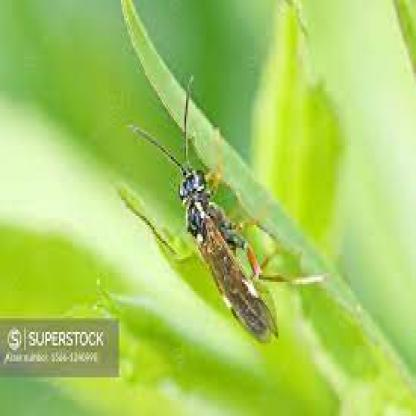sawfly: (137, 76, 323, 346)
